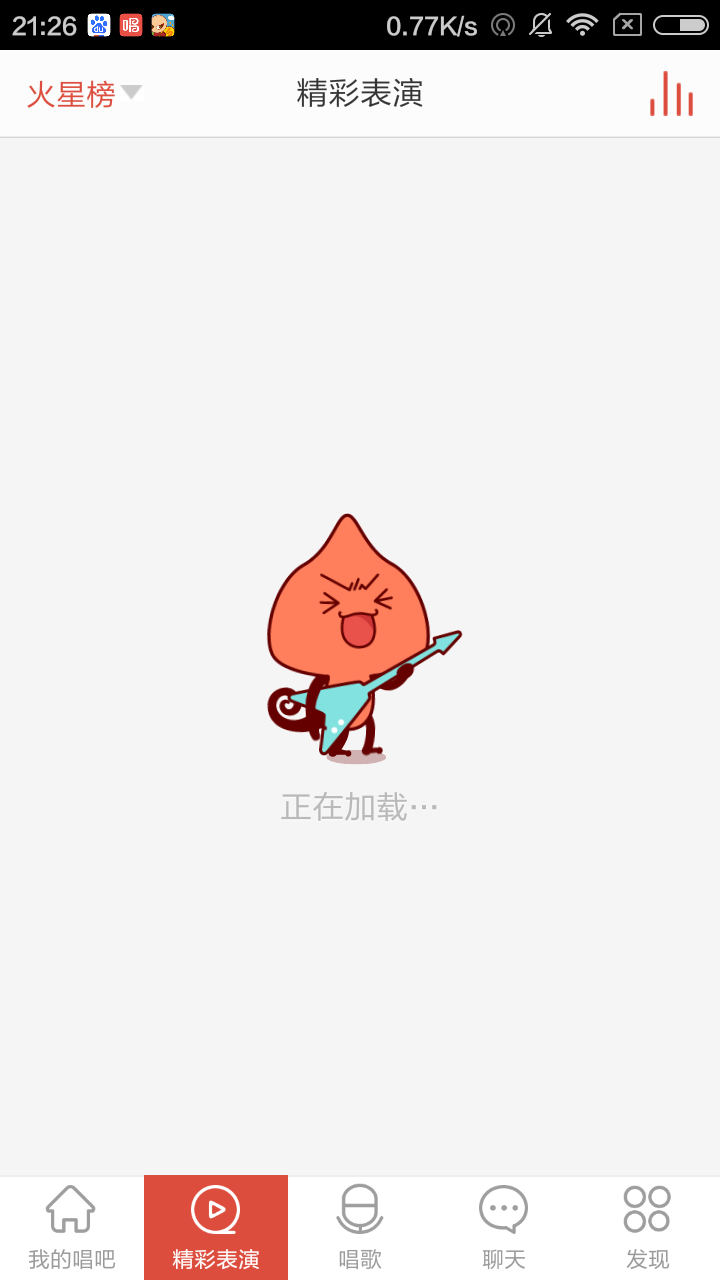imgview: (218, 505, 468, 774)
nav: (21, 1184, 679, 1280)
textview: (24, 58, 720, 140)
